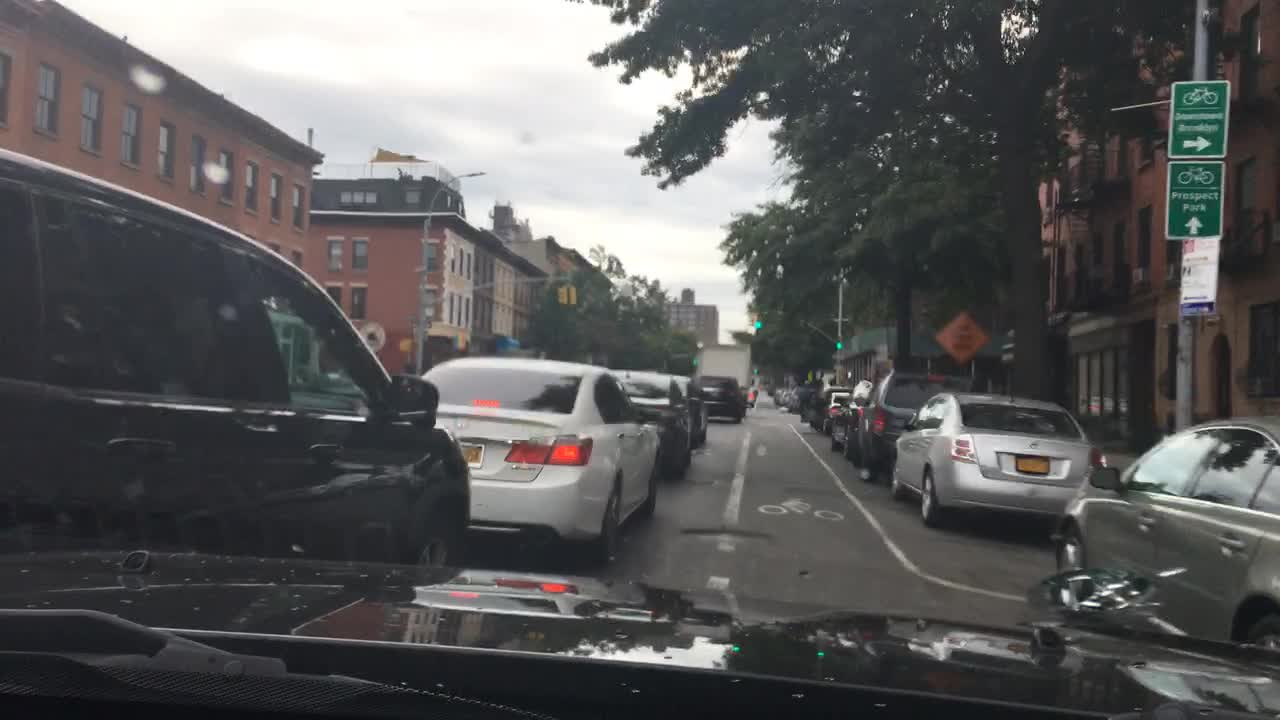car: (0, 144, 472, 559), (1051, 414, 1278, 664), (408, 355, 666, 559), (885, 389, 1112, 524), (858, 378, 967, 482), (602, 368, 698, 483), (664, 375, 712, 446), (830, 391, 874, 460), (691, 374, 749, 426), (823, 386, 850, 435), (801, 391, 830, 425), (789, 381, 808, 411), (782, 389, 794, 410), (772, 388, 784, 408), (764, 379, 776, 396)
traffic light: (394, 337, 416, 352), (752, 312, 766, 330), (566, 285, 577, 307), (558, 281, 568, 305), (836, 337, 843, 352)
traffic sign: (1164, 156, 1223, 237), (1171, 77, 1225, 159), (931, 308, 988, 364), (1181, 236, 1218, 302), (361, 322, 383, 350), (1182, 302, 1214, 317)
truck: (690, 340, 754, 404)
